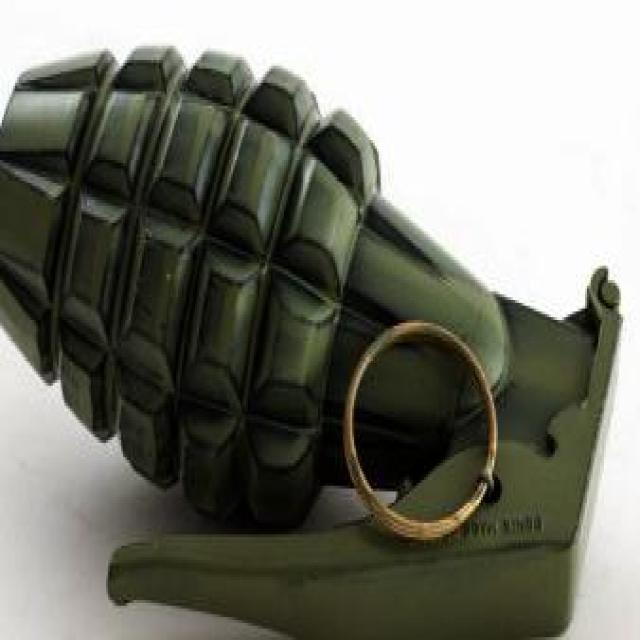grenade: (1, 47, 626, 638)
